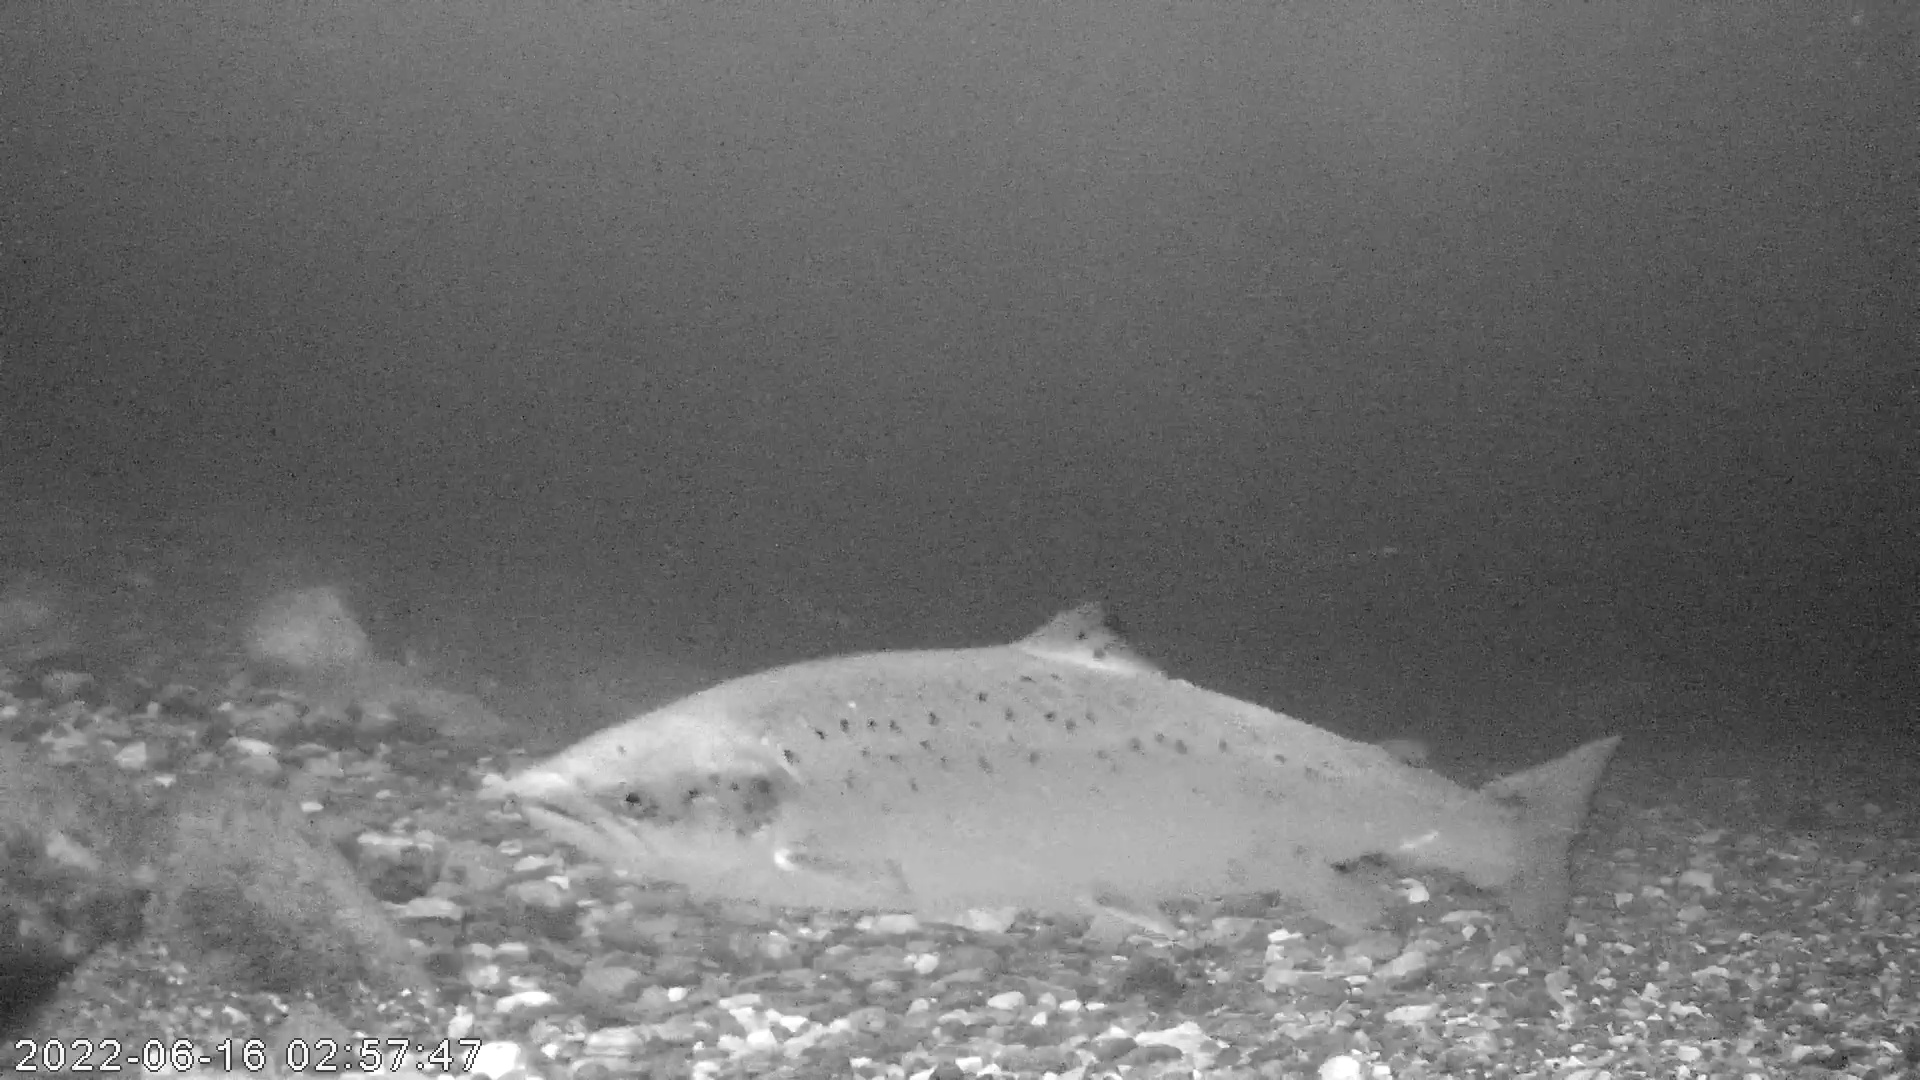salmon: (504, 593, 1625, 973)
